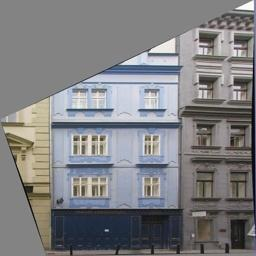building: (53, 15, 179, 252)
